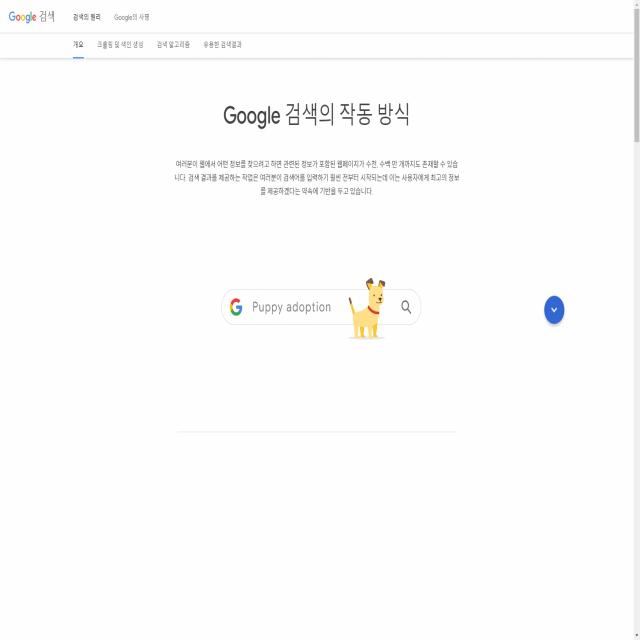menu-bar: (68, 30, 248, 60)
